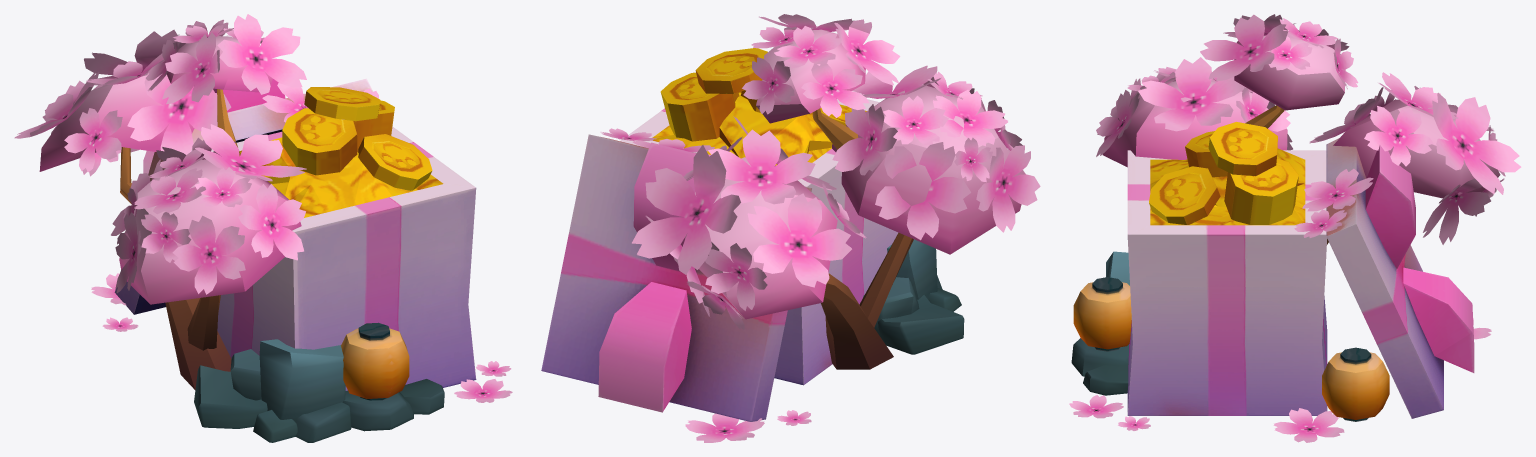
Rendered from Present Sakura.obj.
The picture shows the model from 3 angles, left to right: view 1: azimuth 30°, elevation 25°; view 2: azimuth 150°, elevation 25°; view 3: azimuth 270°, elevation 25°; orthographic projection. The views are drawn at different scales.
Parts seen in each view (by area): view 1: PresentSakura1; view 2: PresentSakura1; view 3: PresentSakura1.
Boxes of the visible parts, x1,y1,x2,y2 form: PresentSakura1: (14,14,512,442); PresentSakura1: (541,14,1040,442); PresentSakura1: (1069,14,1521,442).
Size of the model in its own units: 9.48 by 7.83 by 10.01.
Materials: 1 (1 with a texture image).
